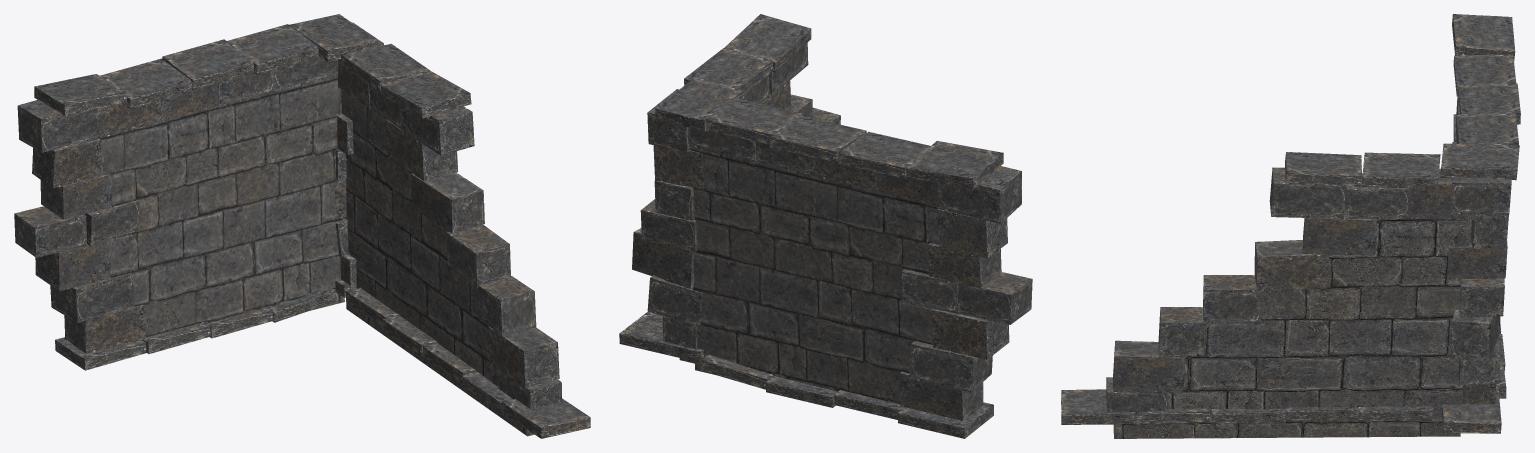
Rendered from Wall_05.fbx.
The picture shows the model from 3 angles, left to right: view 1: azimuth 30°, elevation 25°; view 2: azimuth 150°, elevation 25°; view 3: azimuth 270°, elevation 25°; orthographic projection. The views are drawn at different scales.
Parts seen in each view (by area): view 1: StoneBricks, StoneWall; view 2: StoneBricks, StoneWall; view 3: StoneBricks, StoneWall.
Part boxes in pixels (left/top/right/bottom): StoneBricks: left=14, top=14, right=590, bottom=438; StoneWall: left=86, top=74, right=534, bottom=436; StoneBricks: left=619, top=14, right=1032, bottom=438; StoneWall: left=679, top=142, right=938, bottom=404; StoneBricks: left=1061, top=14, right=1520, bottom=433; StoneWall: left=1113, top=218, right=1471, bottom=438.
Size of what is drawn, in the model's own units: 241 by 167 by 256.
